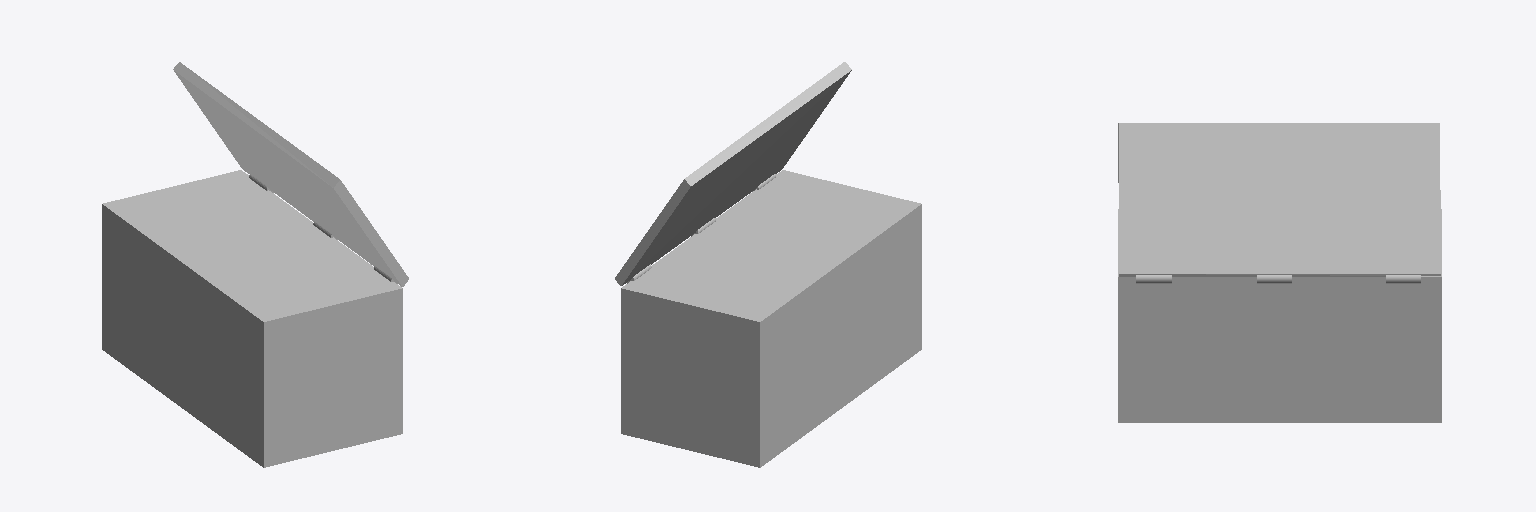
File: ammobox.obj
The picture shows the model from 3 angles: view 1: azimuth 30°, elevation 25°; view 2: azimuth 150°, elevation 25°; view 3: azimuth 270°, elevation 25°; orthographic projection.
Visible parts, largest first — view 1: Cube, Cube.002; view 2: Cube, Cube.002; view 3: Cube.002, Cube.
Boxes of the visible parts, x1=… form: Cube: x1=102, y1=170, x2=402, y2=467; Cube.002: x1=173, y1=62, x2=408, y2=286; Cube: x1=621, y1=170, x2=921, y2=467; Cube.002: x1=615, y1=62, x2=851, y2=285; Cube.002: x1=1118, y1=123, x2=1440, y2=283; Cube: x1=1118, y1=209, x2=1441, y2=422.
Size of the model in its own units: 2.1 by 3.7 by 4.02.